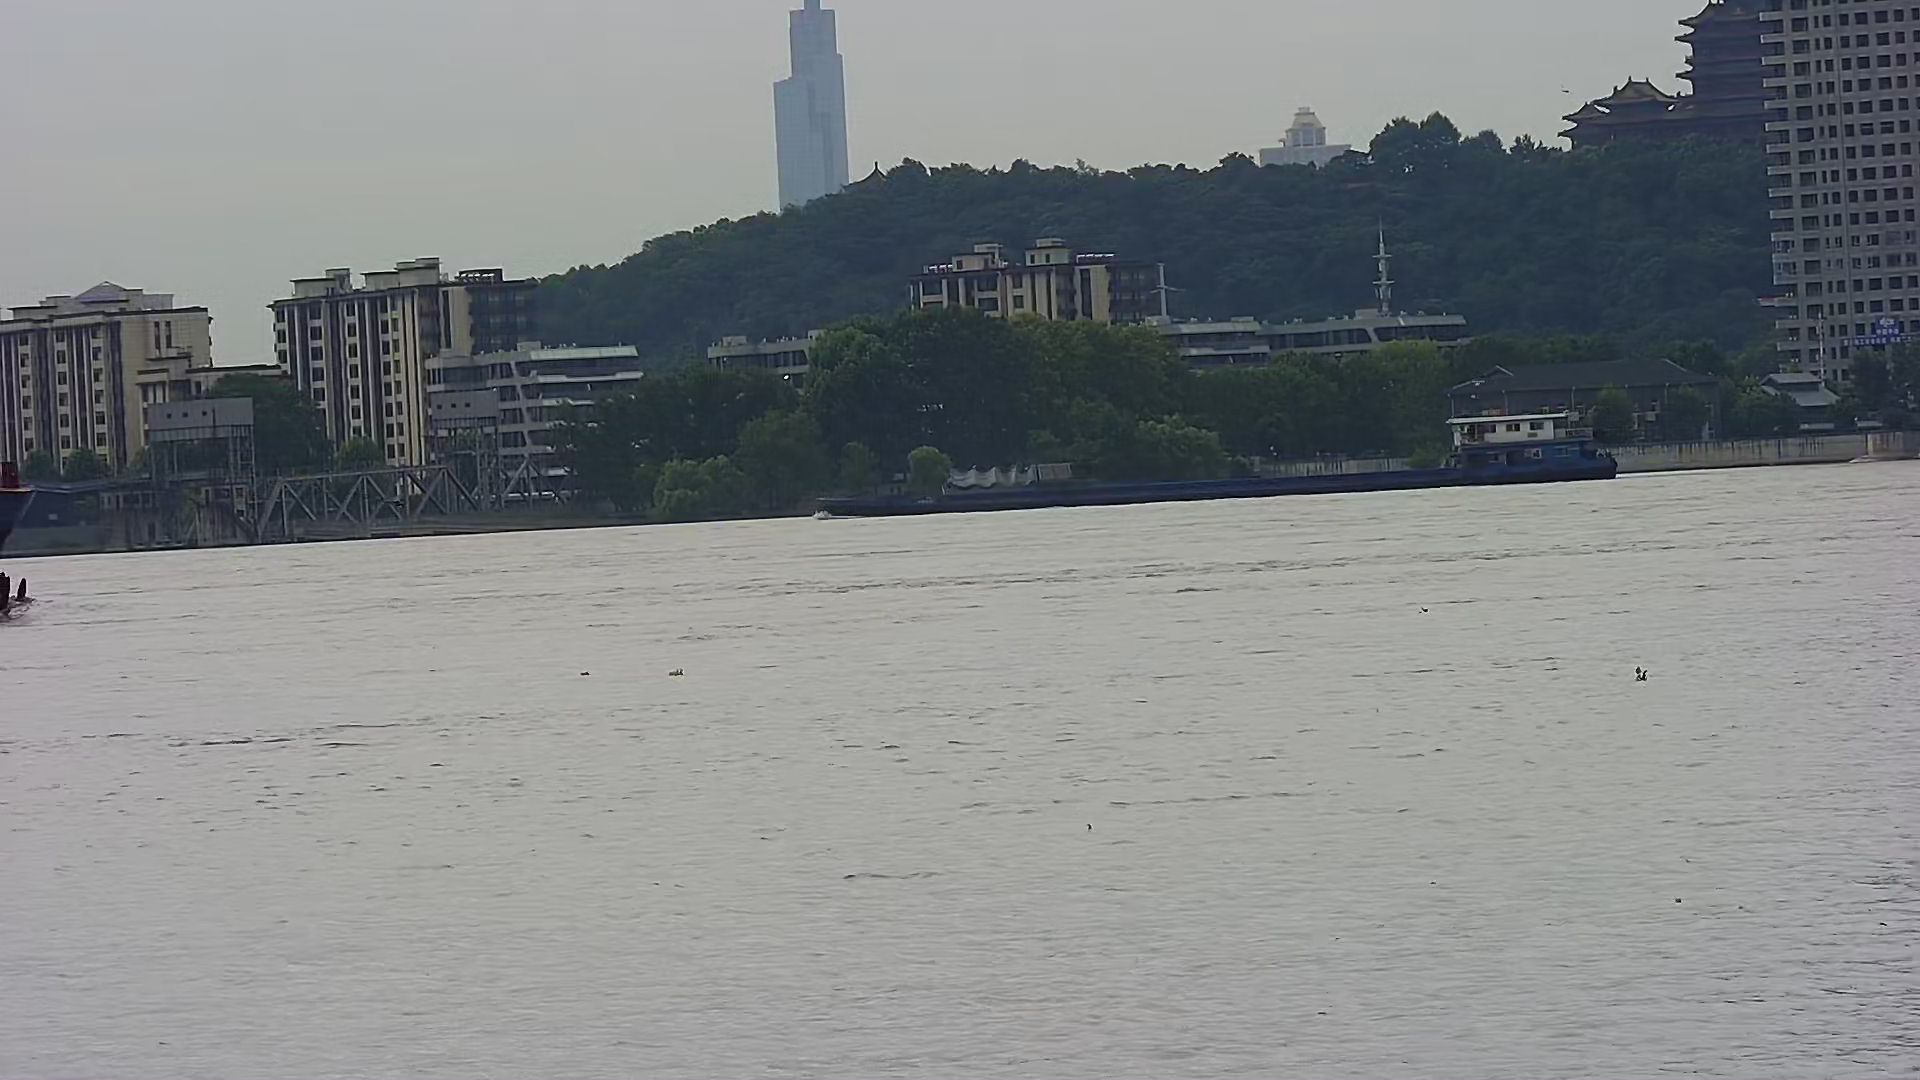boat: (810, 426, 1640, 518)
